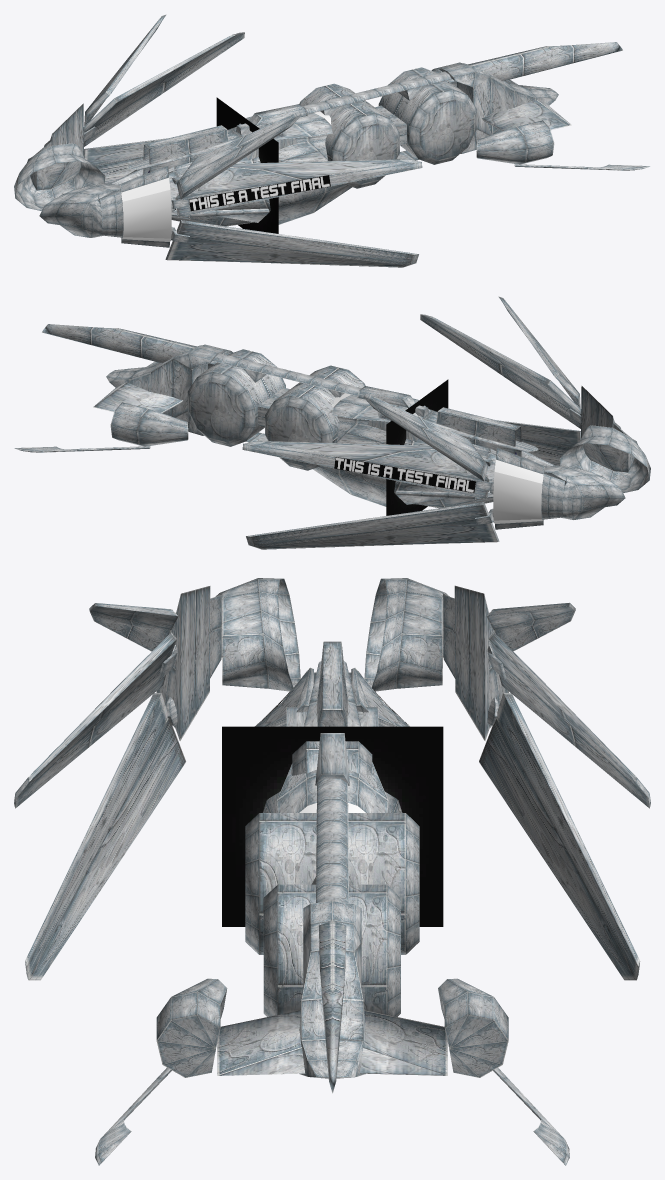
The model's file is OriginalJS.obj.
3 renders of one model, top to bottom at view 1: azimuth 30°, elevation 25°; view 2: azimuth 150°, elevation 25°; view 3: azimuth 270°, elevation 25°, orthographic. The views are drawn at different scales.
Parts seen in each view (by area): view 1: BACK0, R_FINBOT050, TRADER_WINGBAS0, TRADER_HULL_30, TRADER_30, R_FINTOP050, MID0, R_FINTOP040, DECAL010.003, R_FINTOP06+010, R_ROTATE060, NAMEDECAL010 (+6 smaller); view 2: BACK0, R_FINBOT040, TRADER_WINGBAS0, TRADER_HULL_30, TRADER_30, R_FINTOP040, MID0, R_FINTOP050, DECAL020, R_FINTOP06+0, R_ROTATE050, NAMEDECAL020 (+6 smaller); view 3: BACK0, LFGREEN010, TRADER_WINGBAS0, MID0, R_FINBOT050, R_FINBOT040, TRADER_30, TRADER_HULL_30, R_ROTATE050, R_ROTATE060, R_FINTOP040, R_FINTOP050 (+5 smaller).
Part boxes in pixels (x1,y1,x2,y2): BACK0: (378,42,622,164); R_FINBOT050: (165,220,418,267); TRADER_WINGBAS0: (14,143,120,237); TRADER_HULL_30: (110,113,352,226); TRADER_30: (143,71,452,184); R_FINTOP050: (171,159,422,217); MID0: (299,83,399,188); R_FINTOP040: (83,32,244,146); DECAL010.003: (121,178,171,241); R_FINTOP06+010: (177,111,301,199); R_ROTATE060: (100,165,175,247); NAMEDECAL010: (189,175,330,211); BACK0: (41,324,285,446); R_FINBOT040: (246,502,499,549); TRADER_WINGBAS0: (544,425,650,519); TRADER_HULL_30: (312,395,554,508); TRADER_30: (212,353,521,466); R_FINTOP040: (242,441,493,499); MID0: (265,365,365,470); R_FINTOP050: (420,314,581,428); DECAL020: (493,459,543,523); R_FINTOP06+0: (363,393,487,481); R_ROTATE050: (489,447,564,529); NAMEDECAL020: (334,457,475,492); BACK0: (156,876,508,1093); LFGREEN010: (222,726,443,926); TRADER_WINGBAS0: (215,578,449,691); MID0: (245,813,419,954); R_FINBOT050: (25,693,186,980); R_FINBOT040: (479,693,640,980); TRADER_30: (286,641,378,902); TRADER_HULL_30: (256,660,409,812); R_ROTATE050: (443,585,508,740); R_ROTATE060: (156,586,221,740); R_FINTOP040: (487,632,650,808); R_FINTOP050: (14,632,177,808).
Bounding box in the file's own units: 133 × 36.92 × 69.08.
30 materials, 30 textured.
